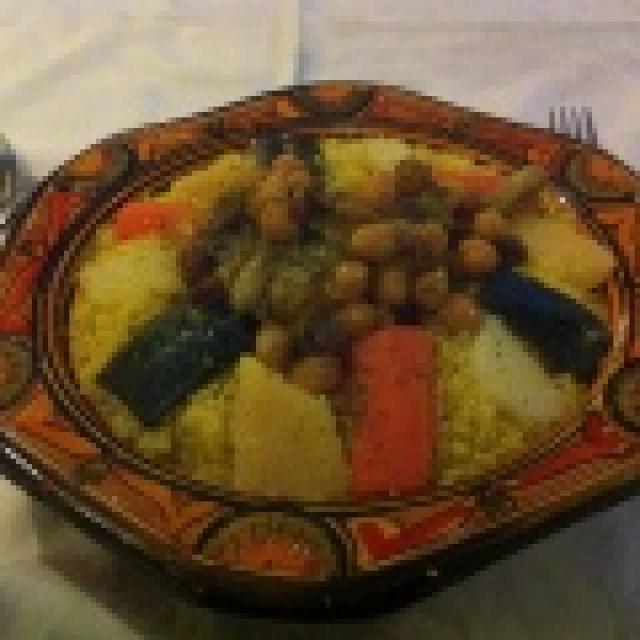Couscous: (46, 142, 628, 494)
